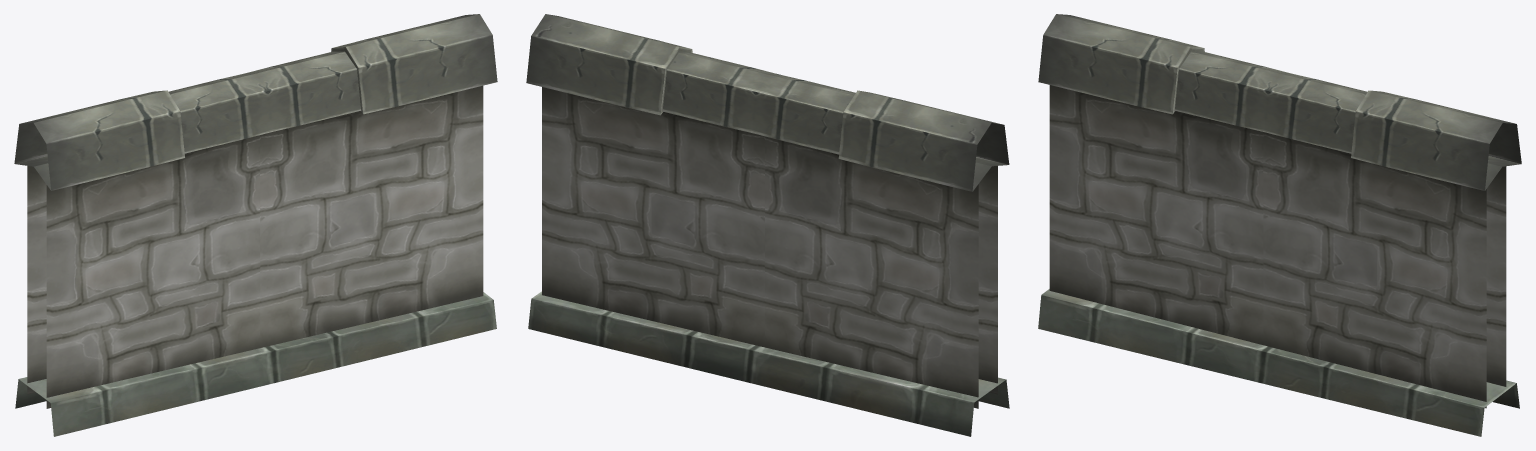
The model's file is wall_02_tile_02.fbx.
3 renders of one model, left to right at view 1: azimuth 30°, elevation 25°; view 2: azimuth 150°, elevation 25°; view 3: azimuth 330°, elevation 25°, orthographic.
Visible parts, largest first — view 1: wall_02_tile_02:Mesh; view 2: wall_02_tile_02:Mesh; view 3: wall_02_tile_02:Mesh.
Part boxes in pixels (x1,y1,x2,y2): wall_02_tile_02:Mesh: (14, 14, 497, 436); wall_02_tile_02:Mesh: (526, 14, 1009, 436); wall_02_tile_02:Mesh: (1038, 14, 1521, 436).
Size of the model in its own units: 4.07 by 2.62 by 0.6094.
